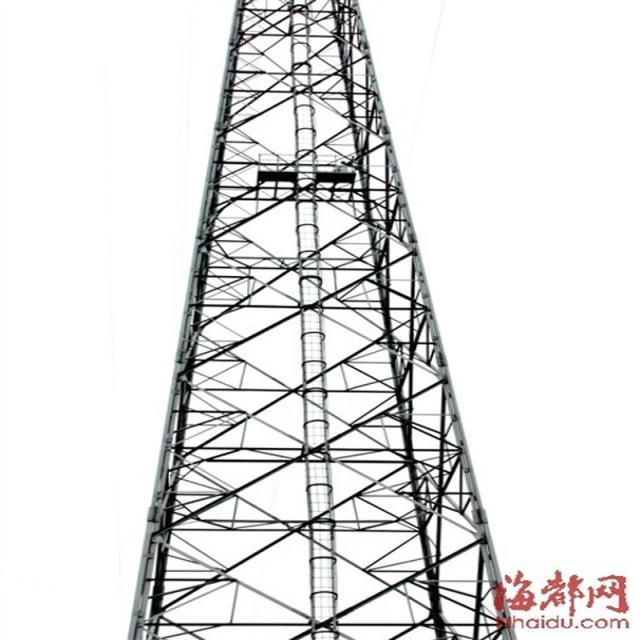non-critical vegetation: (158, 0, 503, 588)
